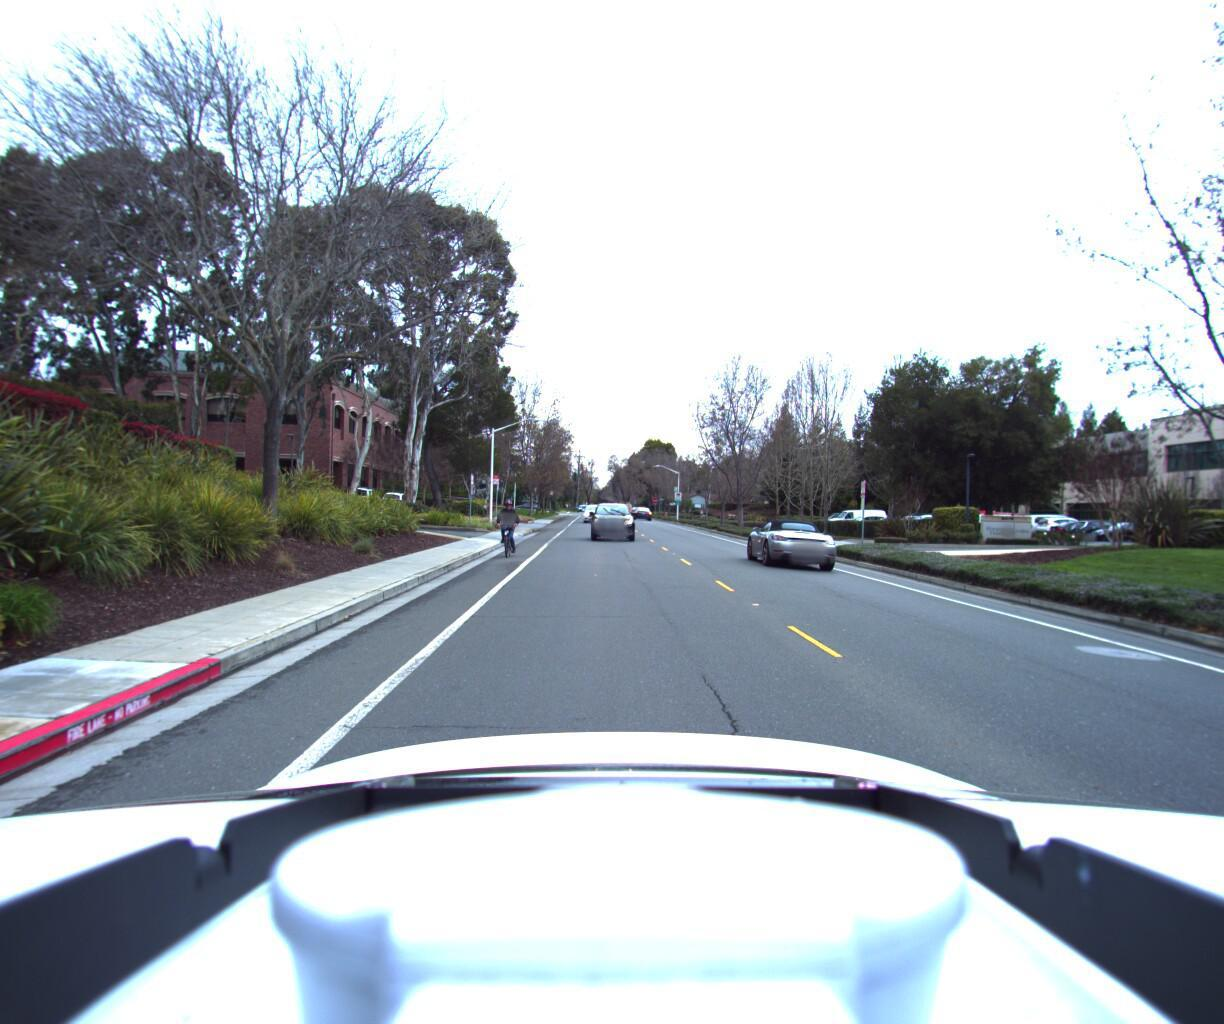bicycle: (487, 499, 526, 564)
car: (735, 523, 832, 575), (591, 510, 638, 551), (575, 507, 599, 526), (634, 509, 653, 523)
